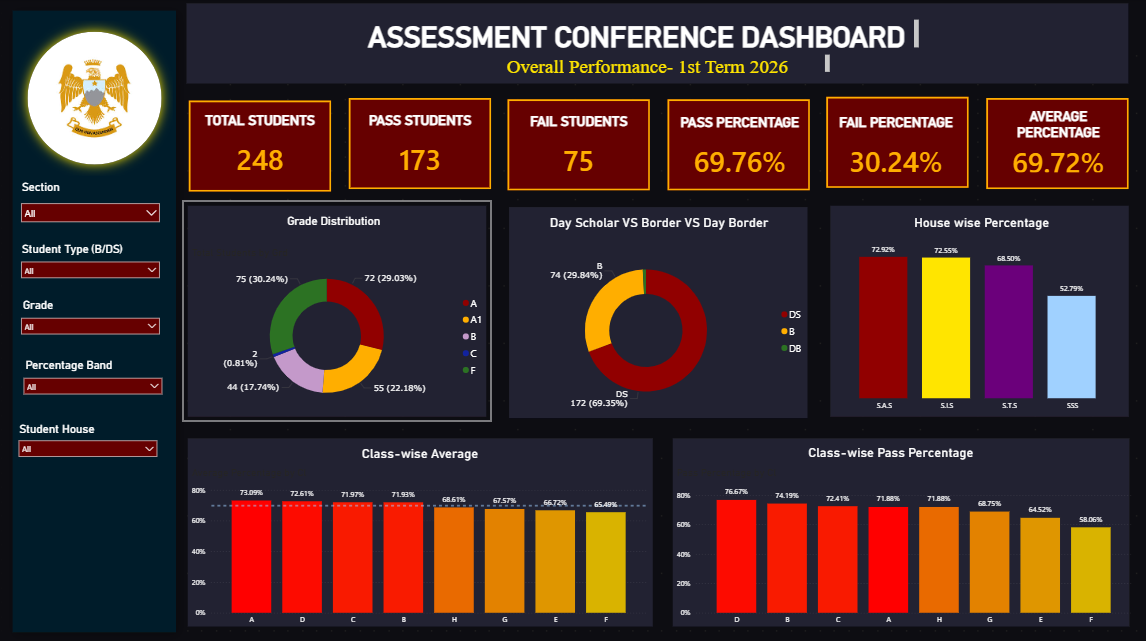

This screenshot's page, from the dashboard's own definition file:
{"tool":"powerbi","page":{"name":"Overall Performance","canvas":[1920,1080],"ordinal":0},"visuals":[{"type":"shape","box":[0,0,315,1080],"z":0},{"type":"shape","box":[315.1,171,237.9,152.3],"z":1000},{"type":"shape","box":[581.4,167.2,237.9,152.3],"z":2000},{"type":"shape","box":[847.7,168.5,237.9,152.3],"z":3000},{"type":"shape","box":[1114,169.7,237.9,152.3],"z":4000},{"type":"shape","box":[1380.3,164.7,237.9,152.3],"z":5000},{"type":"shape","box":[1646.6,166,237.9,152.3],"z":6000},{"type":"shape","box":[303.3,0,1590,151.7],"z":7000},{"type":"shape","box":[303.8,337.8,516,370],"z":8000},{"type":"shape","box":[840.8,339.8,516,370],"z":9000},{"type":"shape","box":[1377.8,338.8,516,370],"z":10000},{"type":"shape","box":[304,726,794,332],"z":11000},{"type":"shape","box":[1114,726,780,332],"z":12000},{"type":"cardVisual","title":"TOTAL STUDENTS","fields":{"Data":["Measures Table.Total Students"]},"box":[315,190,238.3,126.7],"z":13000},{"type":"cardVisual","title":"PASS STUDENTS","fields":{"Data":["Measures Table.Pass Students"]},"box":[581.7,190,238.3,126.7],"z":14000},{"type":"cardVisual","title":"FAIL STUDENTS","fields":{"Data":["Measures Table.Fail Students"]},"box":[848.3,191.7,238.3,126.7],"z":15000},{"type":"cardVisual","title":"PASS PERCENTAGE","fields":{"Data":["Measures Table.Pass Percentage"]},"box":[1118.3,195,233.3,126.7],"z":16000},{"type":"cardVisual","title":"FAIL PERCENTAGE","fields":{"Data":["Measures Table.Fail Percentage"]},"box":[1380,195,233.3,126.7],"z":17000},{"type":"cardVisual","title":"AVERAGE PERCENTAGE","fields":{"Data":["Measures Table.Average Percentage"]},"box":[1650,182.9,232.9,125.7],"z":18000},{"type":"donutChart","fields":{"Y":["Measures Table.Total Students"],"Category":["9th result.Grd"]},"box":[315.7,414.3,504.3,278.6],"z":19000},{"type":"textbox","box":[418.8,356.2,275,41.2],"z":20000},{"type":"donutChart","fields":{"Y":["Measures Table.Total Students"],"Category":["9th result.B/DS"]},"box":[848.8,415,502.5,280],"z":21000},{"type":"textbox","box":[848.8,356.2,502.5,41.2],"z":22000},{"type":"columnChart","fields":{"Category":["9th result.H"],"Y":["Measures Table.Average Percentage"]},"box":[1388,394,492,304],"z":23000},{"type":"textbox","box":[1388.8,357.5,502.5,41.2],"z":24000},{"type":"columnChart","fields":{"Category":["9th result.Cl"],"Y":["Measures Table.Average Percentage"]},"box":[316,782,770,274],"z":25000},{"type":"textbox","box":[564,742,276,40],"z":26000},{"type":"columnChart","fields":{"Category":["9th result.Cl"],"Y":["Measures Table.Pass Percentage"]},"box":[1124,782,770,274],"z":27000},{"type":"textbox","box":[1318.6,741.4,337.1,40],"z":28000},{"type":"slicer","fields":{"Values":["9th result.Name"]},"box":[24.3,326.7,251.2,68.8],"z":29000},{"type":"textbox","box":[32,300.3,192.5,31.2],"z":30000},{"type":"slicer","fields":{"Values":["9th result.B/DS"]},"box":[24.3,429.6,251.2,55],"z":31000},{"type":"textbox","box":[32.3,403.1,192.5,31.2],"z":32000},{"type":"group","id":"g1","title":"Group 3","box":[25.7,496.3,251.2,81.5],"z":33000},{"type":"slicer","fields":{"Values":["9th result.Grd"]},"box":[25.7,522.8,251.2,55],"z":33000,"group":"g1"},{"type":"textbox","box":[33.7,496.3,192.5,31.2],"z":34000,"group":"g1"},{"type":"slicer","fields":{"Values":["9th result.Clean House"]},"box":[20,729.2,251.2,55],"z":34000},{"type":"shape","box":[26.9,37.7,261.5,259.2],"z":35000},{"type":"slicer","fields":{"Values":["9th result.Percentage Band"]},"box":[28.6,623.2,251.2,55],"z":35000,"group":"g2"},{"type":"textbox","box":[36.6,596.7,192.5,31.2],"z":36000,"group":"g2"},{"type":"textbox","box":[28,702.7,192.5,31.2],"z":36000},{"type":"image","box":[82.5,91.7,149.2,150.8],"z":37000},{"type":"textbox","box":[594,30.5,944,60],"z":38000},{"type":"textbox","box":[780,90,610,42.5],"z":39000},{"type":"group","id":"g2","title":"Group 4","box":[28.6,596.7,251.3,81.5],"z":40000}]}

Visuals, with their boxes in screenshot pixels (x1, y1, x2, y2), scaled from the page's 1920x1080 canvas onto the 1146x641 screenshot:
shape: [x1=0, y1=0, x2=188, y2=640]
shape: [x1=188, y1=101, x2=330, y2=192]
shape: [x1=347, y1=99, x2=489, y2=190]
shape: [x1=506, y1=100, x2=648, y2=190]
shape: [x1=665, y1=101, x2=807, y2=191]
shape: [x1=824, y1=98, x2=966, y2=188]
shape: [x1=983, y1=99, x2=1125, y2=189]
shape: [x1=181, y1=0, x2=1130, y2=90]
shape: [x1=181, y1=200, x2=489, y2=420]
shape: [x1=502, y1=202, x2=810, y2=421]
shape: [x1=822, y1=201, x2=1130, y2=421]
shape: [x1=181, y1=431, x2=655, y2=628]
shape: [x1=665, y1=431, x2=1130, y2=628]
"TOTAL STUDENTS" cardVisual: [x1=188, y1=113, x2=330, y2=188]
"PASS STUDENTS" cardVisual: [x1=347, y1=113, x2=489, y2=188]
"FAIL STUDENTS" cardVisual: [x1=506, y1=114, x2=649, y2=189]
"PASS PERCENTAGE" cardVisual: [x1=667, y1=116, x2=807, y2=191]
"FAIL PERCENTAGE" cardVisual: [x1=824, y1=116, x2=963, y2=191]
"AVERAGE PERCENTAGE" cardVisual: [x1=985, y1=109, x2=1124, y2=183]
donutChart - Measures Table.Total Students x 9th result.Grd: [x1=188, y1=246, x2=489, y2=411]
textbox: [x1=250, y1=211, x2=414, y2=236]
donutChart - Measures Table.Total Students x 9th result.B/DS: [x1=507, y1=246, x2=807, y2=412]
textbox: [x1=507, y1=211, x2=807, y2=236]
columnChart - 9th result.H x Measures Table.Average Percentage: [x1=828, y1=234, x2=1122, y2=414]
textbox: [x1=829, y1=212, x2=1129, y2=237]
columnChart - 9th result.Cl x Measures Table.Average Percentage: [x1=189, y1=464, x2=648, y2=627]
textbox: [x1=337, y1=440, x2=501, y2=464]
columnChart - 9th result.Cl x Measures Table.Pass Percentage: [x1=671, y1=464, x2=1130, y2=627]
textbox: [x1=787, y1=440, x2=988, y2=464]
slicer - 9th result.Name: [x1=15, y1=194, x2=164, y2=235]
textbox: [x1=19, y1=178, x2=134, y2=197]
slicer - 9th result.B/DS: [x1=15, y1=255, x2=164, y2=288]
textbox: [x1=19, y1=239, x2=134, y2=258]
"Group 3" group: [x1=15, y1=295, x2=165, y2=343]
slicer - 9th result.Grd: [x1=15, y1=310, x2=165, y2=343]
textbox: [x1=20, y1=295, x2=135, y2=313]
slicer - 9th result.Clean House: [x1=12, y1=433, x2=162, y2=465]
shape: [x1=16, y1=22, x2=172, y2=176]
slicer - 9th result.Percentage Band: [x1=17, y1=370, x2=167, y2=403]
textbox: [x1=22, y1=354, x2=137, y2=373]
textbox: [x1=17, y1=417, x2=132, y2=436]
image: [x1=49, y1=54, x2=138, y2=144]
textbox: [x1=355, y1=18, x2=918, y2=54]
textbox: [x1=466, y1=53, x2=830, y2=79]
"Group 4" group: [x1=17, y1=354, x2=167, y2=403]
